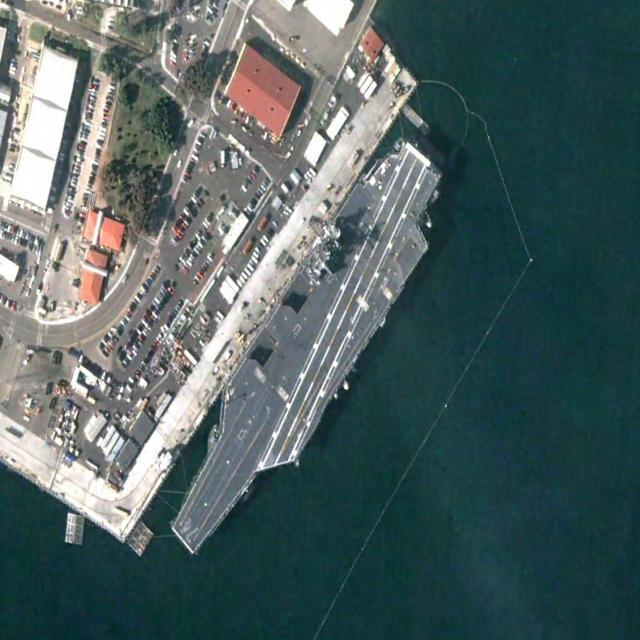Aircraft Carrier: (148, 115, 465, 585)
